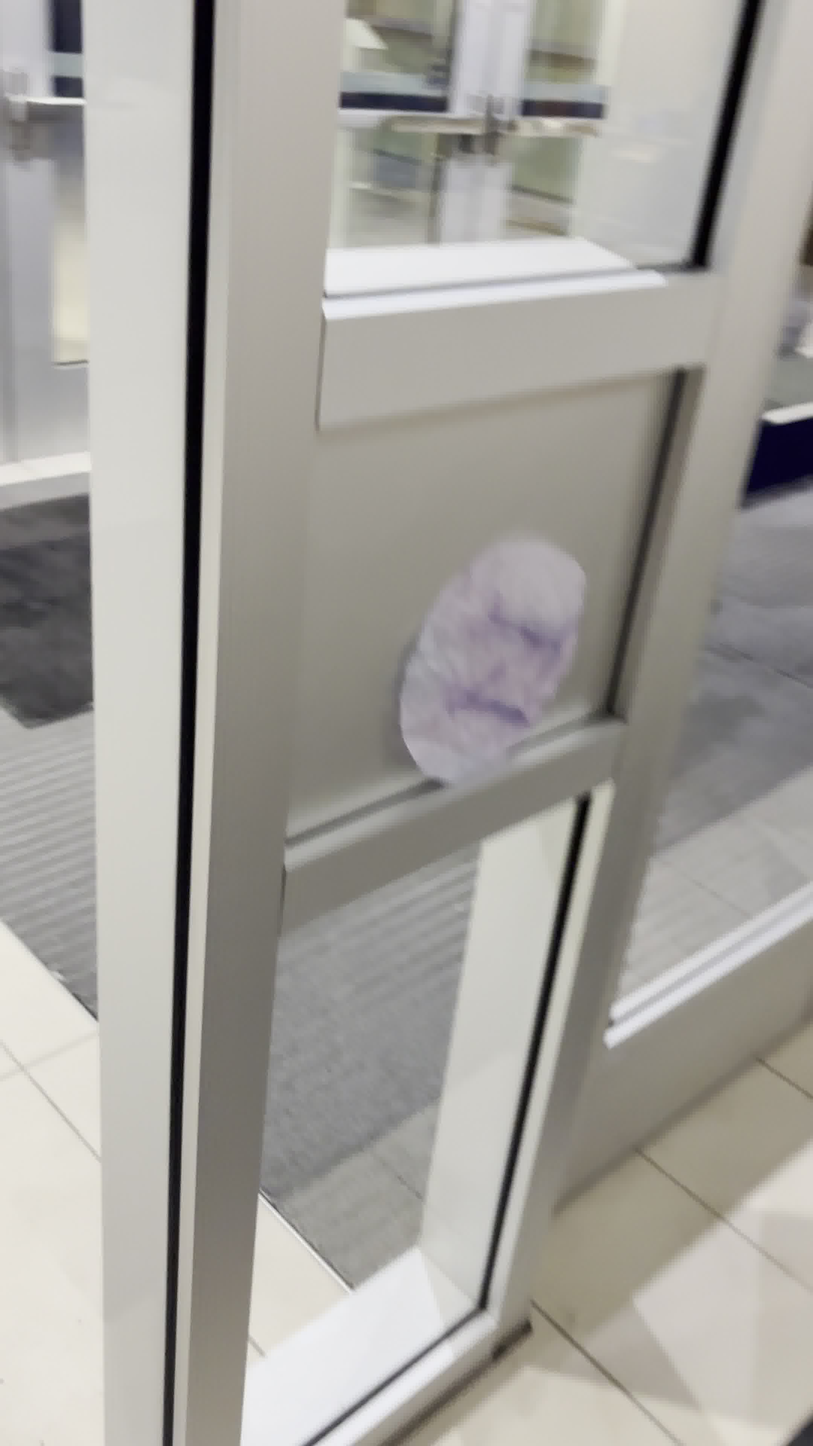Target: (393, 534, 591, 788)
